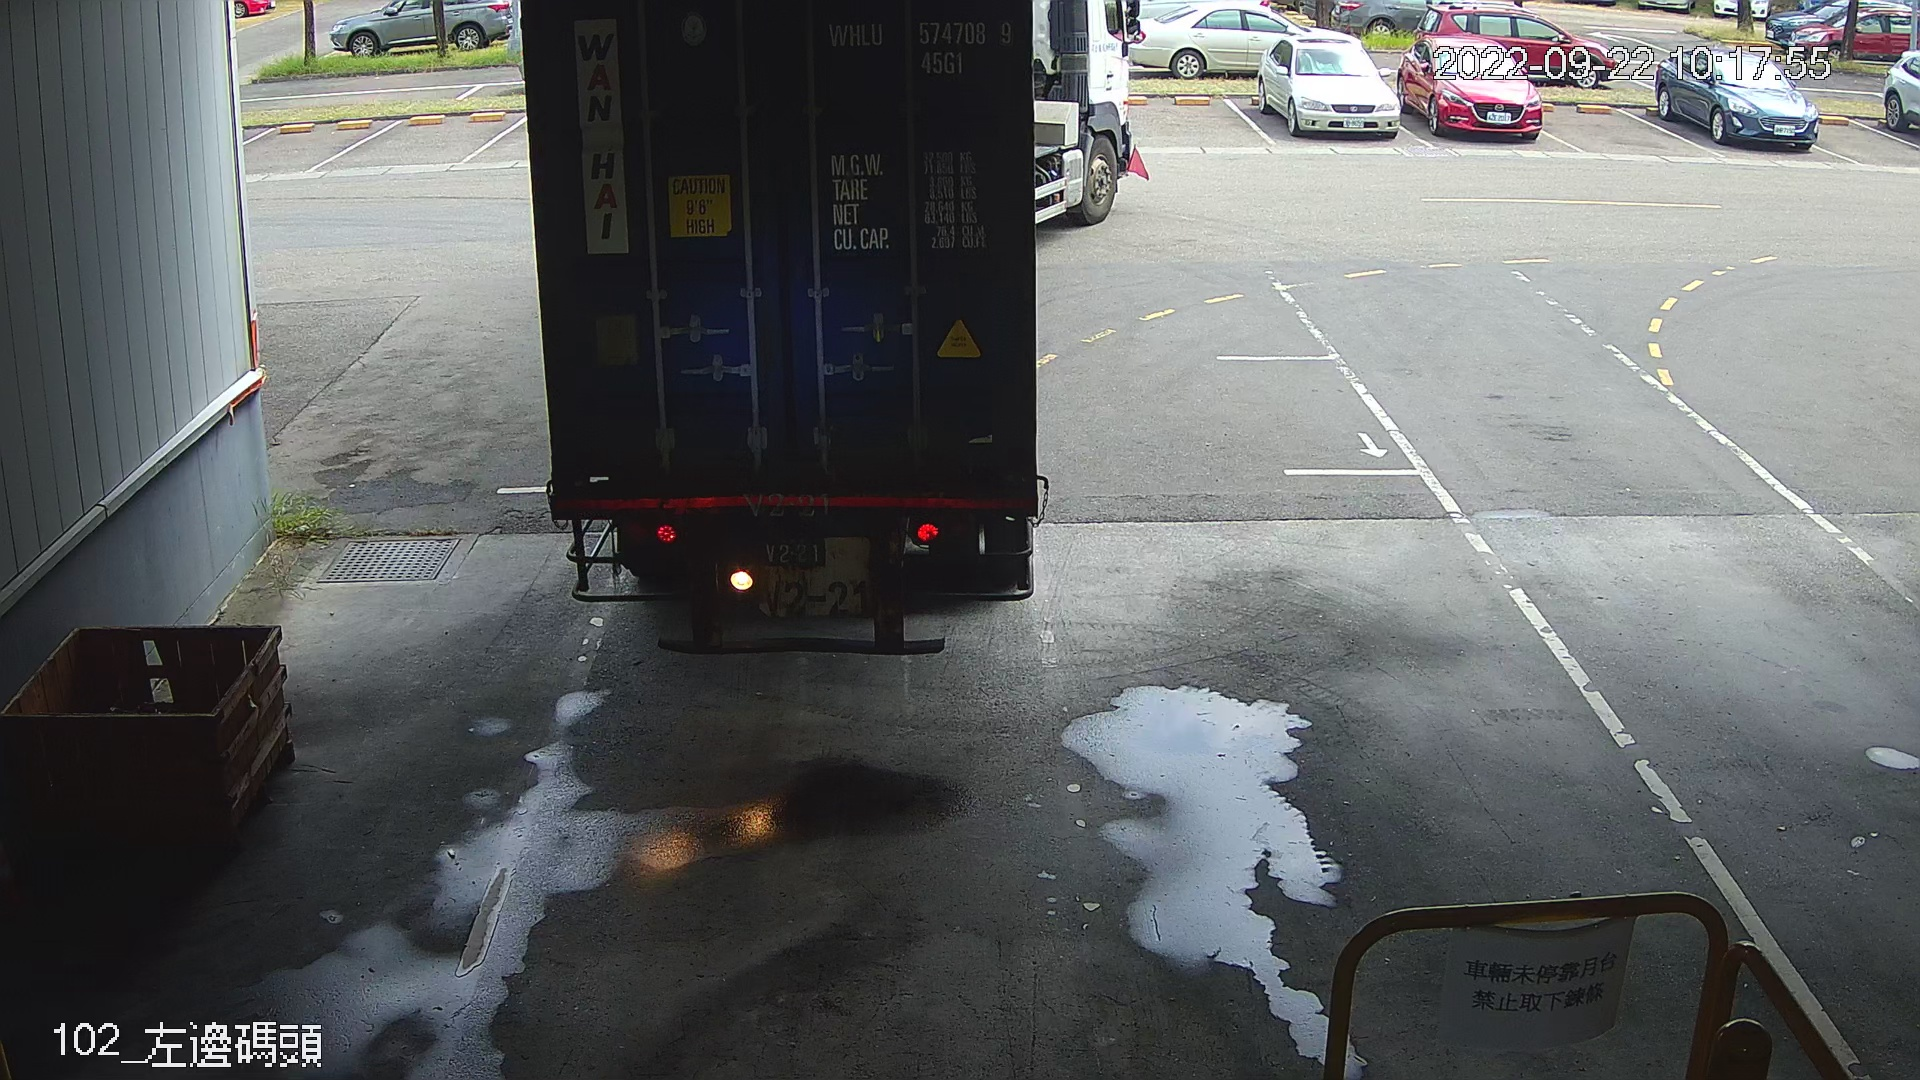container: (994, 161, 1131, 222)
